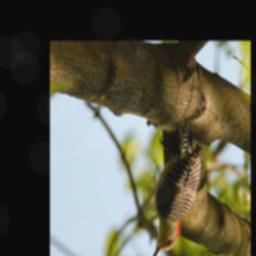Woodpecker: (149, 119, 201, 256)
